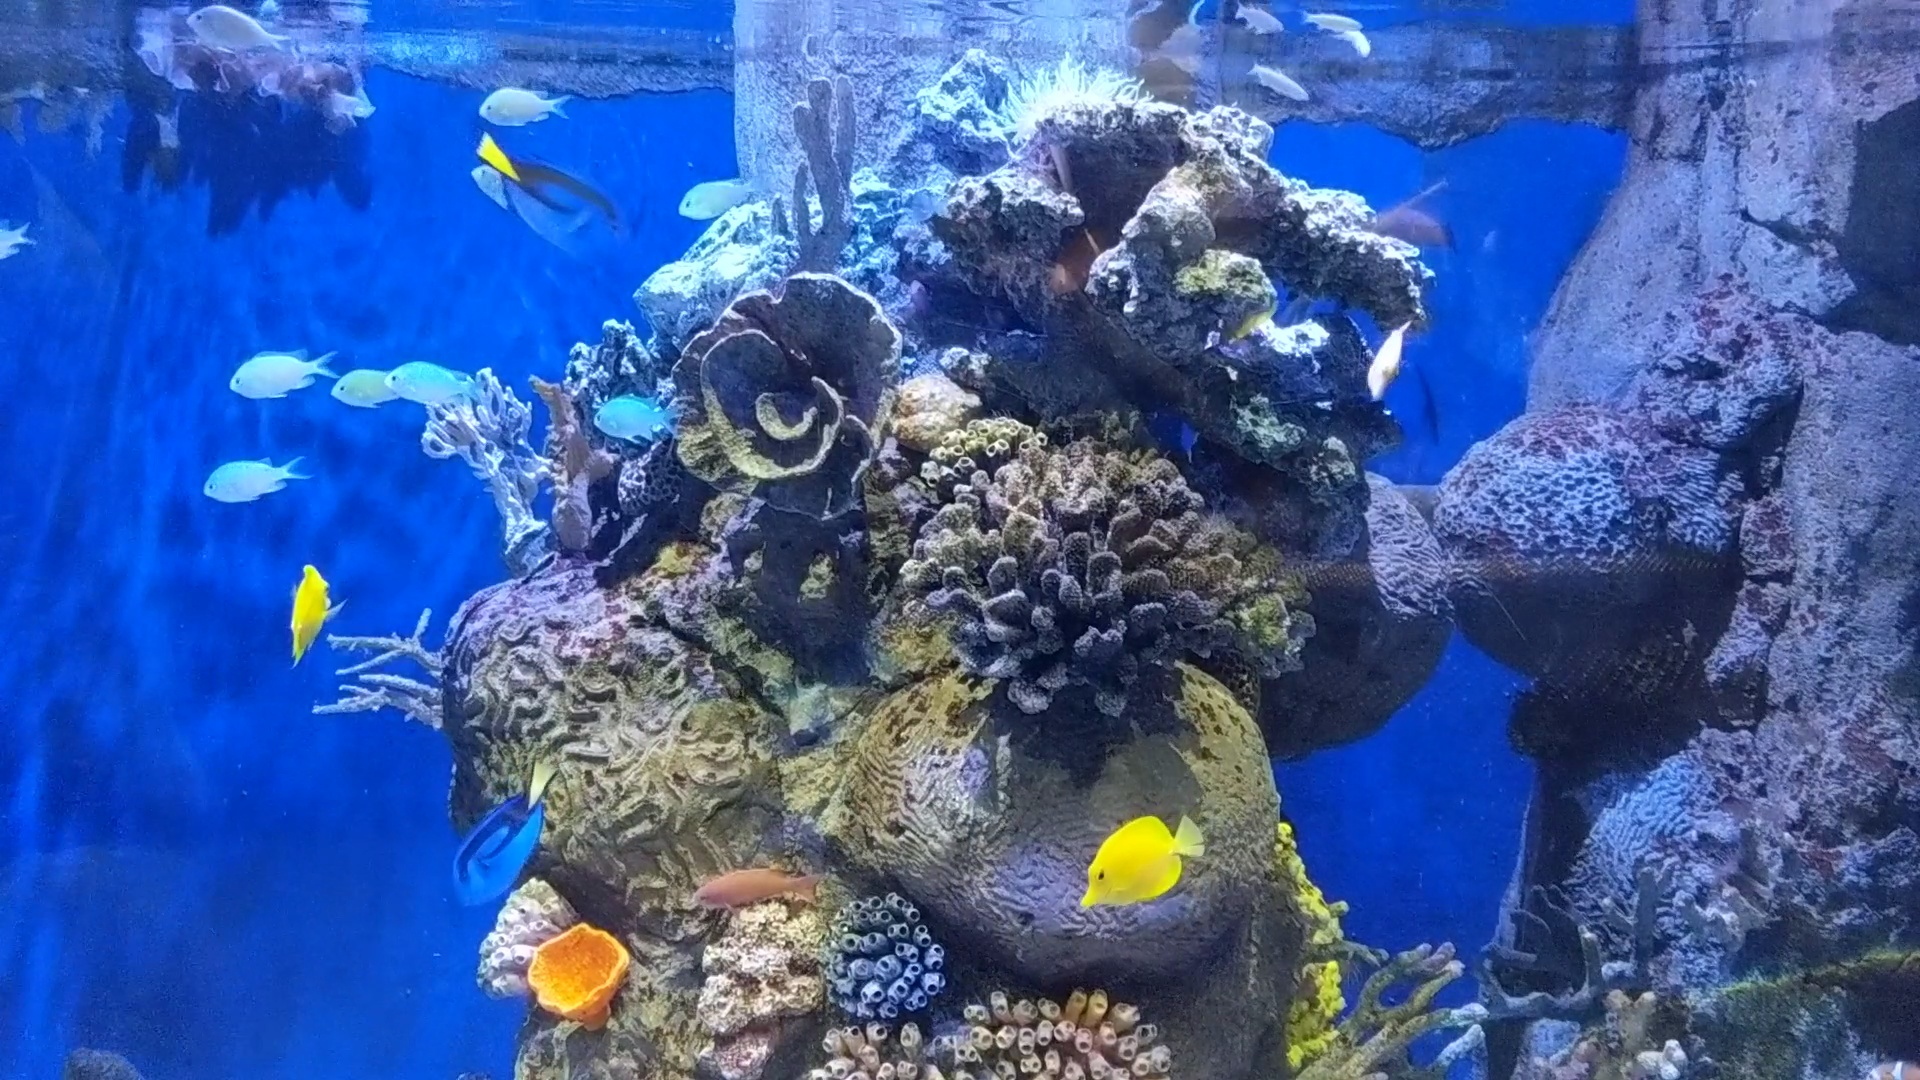blue tang surgeonfish: (418, 740, 592, 931), (468, 117, 632, 276)
damselfish: (386, 340, 485, 446), (458, 71, 585, 149), (191, 435, 309, 517), (223, 334, 340, 414), (164, 0, 290, 71), (326, 343, 418, 435), (582, 386, 694, 458), (645, 166, 775, 223)
saddle butterfly fish: (1073, 779, 1204, 931), (252, 545, 353, 683)
